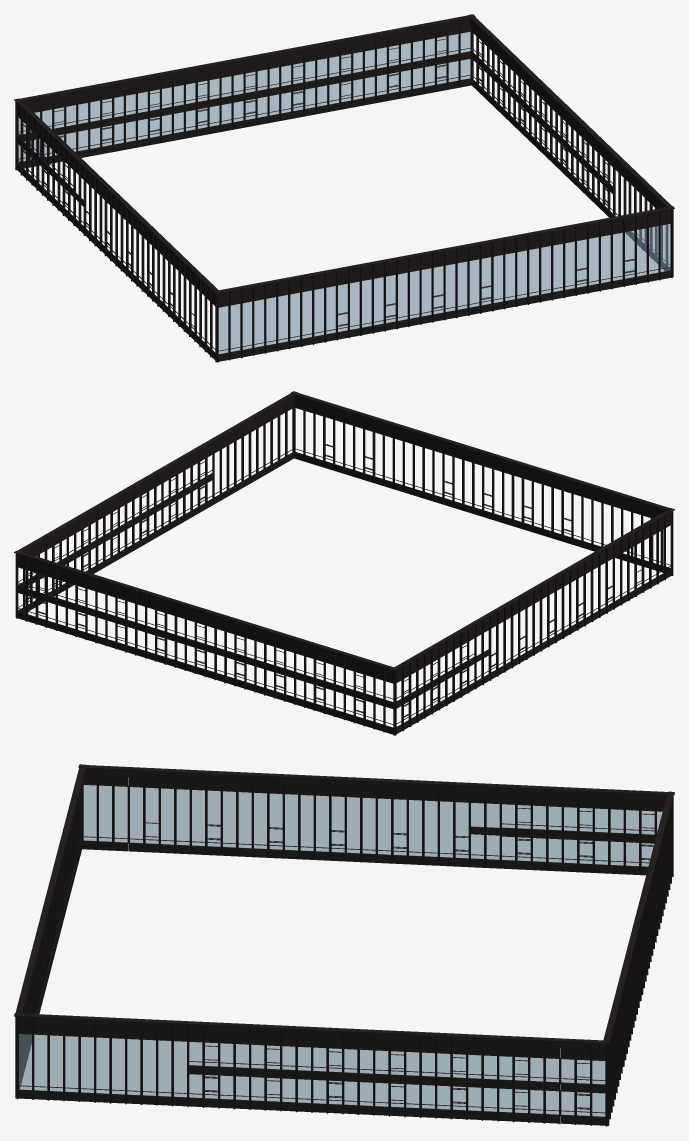
Rendered from tib_fassade.glb.
3 views of the same model, one above another, from view 1: azimuth 30°, elevation 25°; view 2: azimuth 150°, elevation 25°; view 3: azimuth 270°, elevation 25° (orthographic). The views are drawn at different scales.
Parts seen in each view (by area): view 1: tib_fassade__TIB Fassade Attika 34-31-30, tib_fassade__TIB Glas 150-190-210, tib_fassade__TIB Fassade Lisenen 28-26-25; view 2: tib_fassade__TIB Fassade Attika 34-31-30, tib_fassade__TIB Fassade Lisenen 28-26-25; view 3: tib_fassade__TIB Fassade Attika 34-31-30, tib_fassade__TIB Glas 150-190-210, tib_fassade__TIB Fassade Lisenen 28-26-25.
Part boxes in pixels (x1,y1,x2,y2): tib_fassade__TIB Fassade Attika 34-31-30: [14, 14, 674, 361]; tib_fassade__TIB Glas 150-190-210: [18, 32, 670, 354]; tib_fassade__TIB Fassade Lisenen 28-26-25: [15, 25, 673, 362]; tib_fassade__TIB Fassade Attika 34-31-30: [14, 391, 674, 734]; tib_fassade__TIB Fassade Lisenen 28-26-25: [15, 401, 673, 735]; tib_fassade__TIB Fassade Attika 34-31-30: [14, 764, 674, 1125]; tib_fassade__TIB Glas 150-190-210: [19, 785, 662, 1116]; tib_fassade__TIB Fassade Lisenen 28-26-25: [15, 776, 673, 1126].
Bounding box in the file's own units: 59.35 × 8.26 × 59.35.
